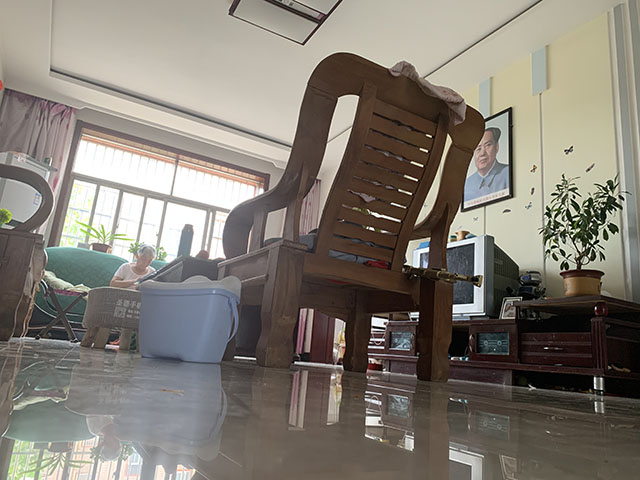cabinet: (367, 292, 640, 395)
sofa: (217, 50, 487, 385)
stool: (79, 286, 140, 353), (34, 286, 88, 345)
trashcan: (138, 274, 242, 365)
